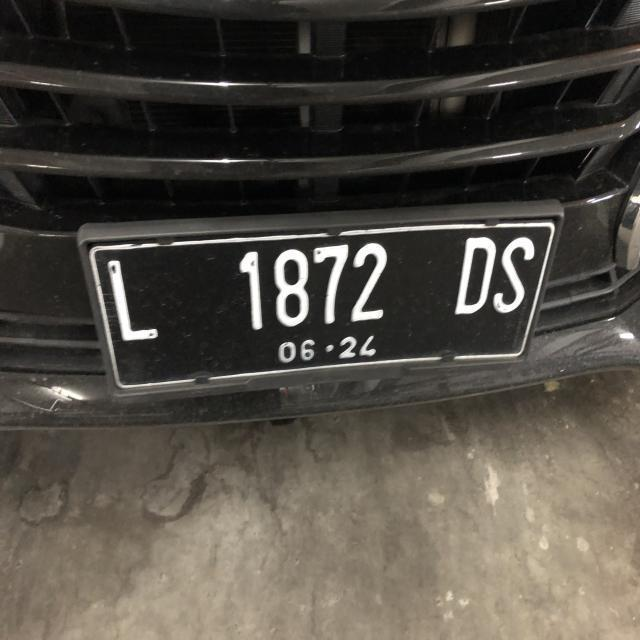1: (228, 245, 274, 338)
2: (348, 239, 390, 329)
7: (309, 242, 351, 328)
8: (268, 245, 313, 328)
D: (452, 230, 495, 318)
L: (103, 252, 168, 352)
S: (492, 234, 534, 318)
